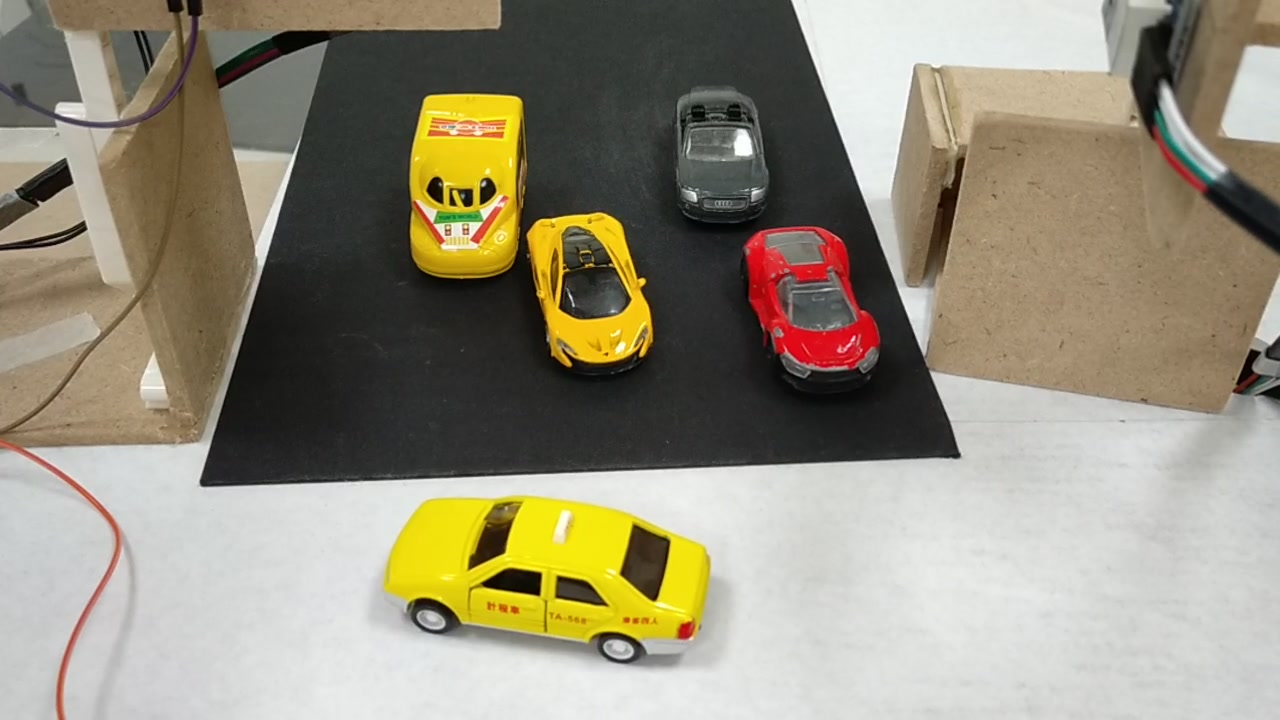car: (378, 497, 713, 670), (746, 229, 884, 401), (522, 220, 657, 379), (674, 93, 768, 225)
